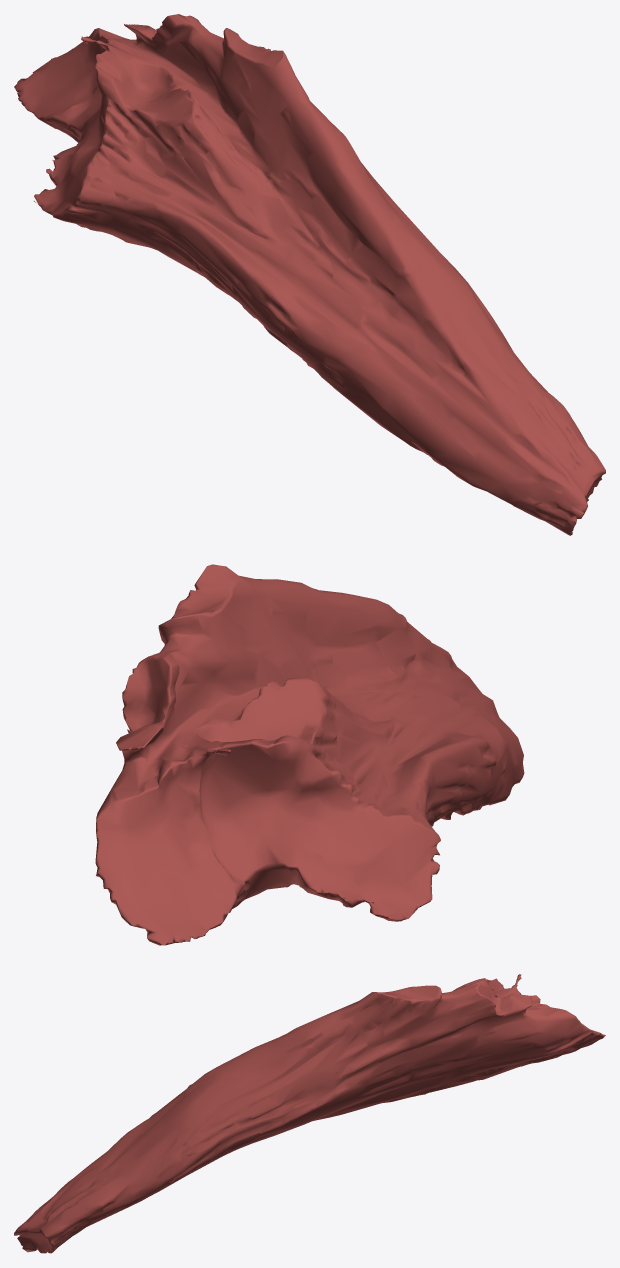
File: FMA46018.glb
3 views of the same model, one above another, from view 1: azimuth 30°, elevation 25°; view 2: azimuth 150°, elevation 25°; view 3: azimuth 270°, elevation 25° (orthographic). The views are drawn at different scales.
Visible parts, largest first — view 1: FMA46018; view 2: FMA46018; view 3: FMA46018.
Part boxes in pixels (<box>): FMA46018: <box>14,14,605,535</box>; FMA46018: <box>95,564,524,945</box>; FMA46018: <box>14,974,605,1253</box>.
Size of the model in its own units: 0.0273 by 0.0292 by 0.0647.
